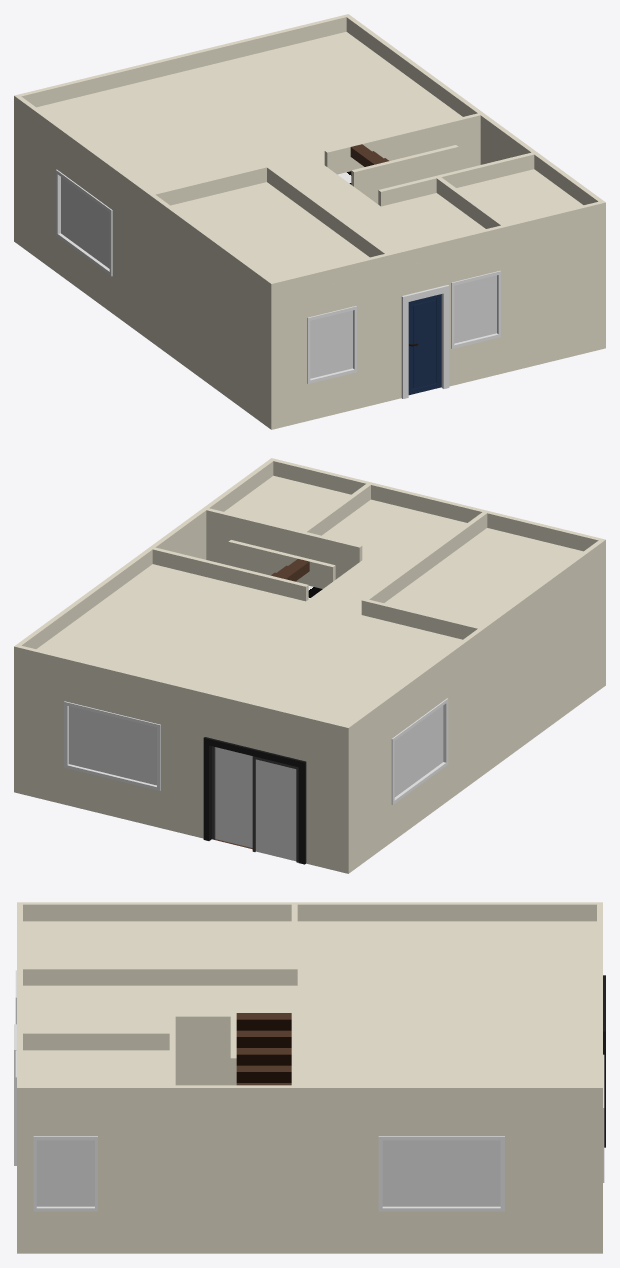
Rendered from CasaPisoAbajo.fbx.
The picture shows the model from 3 angles, top to bottom: view 1: azimuth 30°, elevation 25°; view 2: azimuth 150°, elevation 25°; view 3: azimuth 270°, elevation 25°; orthographic projection. The views are drawn at different scales.
Visible parts, largest first — view 1: Cube.046, Cube.070, Cube.019, Cube.048, Cube.012, Cube.047, Cube.020, Cube.023, Cube.021, Cube.068, Cube.035, VentanaDoble (+17 smaller); view 2: Cube.070, Cube.046, Cube.021, Cube.048, Cube.047, Cube.020, Cube.007, VentanaDoble.001, Glass, Cube.069, Glass.001, Cube.025 (+16 smaller); view 3: Cube.020, Cube.046, Cube.048, Cube.070, Cube.047, VentanaDoble.002, Cube.001, VentanaSimple, MarcoVentanaDoble.001, Cube.004, Cube.019, Cube.022 (+11 smaller).
Part boxes in pixels (left/top/right/bottom): Cube.046: left=14, top=69, right=447, bottom=308; Cube.070: left=14, top=94, right=275, bottom=429; Cube.019: left=441, top=200, right=605, bottom=386; Cube.048: left=193, top=31, right=462, bottom=164; Cube.012: left=274, top=249, right=406, bottom=428; Cube.047: left=381, top=169, right=601, bottom=265; Cube.020: left=344, top=14, right=605, bottom=349; Cube.023: left=324, top=113, right=480, bottom=174; Cube.021: left=154, top=15, right=346, bottom=77; Cube.068: left=408, top=294, right=441, bottom=395; Cube.035: left=351, top=145, right=458, bottom=203; VentanaDoble: left=61, top=177, right=109, bottom=268; Cube.070: left=344, top=538, right=605, bottom=873; Cube.046: left=172, top=513, right=605, bottom=751; Cube.021: left=15, top=644, right=211, bottom=838; Cube.048: left=36, top=564, right=305, bottom=686; Cube.047: left=206, top=475, right=426, bottom=569; Cube.020: left=14, top=460, right=273, bottom=793; Cube.007: left=302, top=715, right=350, bottom=872; VentanaDoble.001: left=69, top=706, right=156, bottom=785; Glass: left=256, top=759, right=296, bottom=861; Cube.069: left=209, top=692, right=304, bottom=760; Glass.001: left=215, top=747, right=252, bottom=847; Cube.025: left=206, top=508, right=362, bottom=579; Cube.020: left=23, top=1085, right=602, bottom=1253; Cube.046: left=23, top=921, right=596, bottom=1027; Cube.048: left=291, top=1016, right=602, bottom=1115; Cube.070: left=17, top=902, right=602, bottom=921; Cube.047: left=17, top=1016, right=175, bottom=1115; VentanaDoble.002: left=382, top=1140, right=500, bottom=1206; Cube.001: left=127, top=966, right=297, bottom=1085; VentanaSimple: left=36, top=1140, right=94, bottom=1206; MarcoVentanaDoble.001: left=378, top=1136, right=504, bottom=1211; Cube.004: left=84, top=1031, right=173, bottom=1050; Cube.019: left=17, top=997, right=22, bottom=1253; Cube.022: left=17, top=966, right=84, bottom=985.
Bounding box in the file's own units: 725 × 970 × 300.
